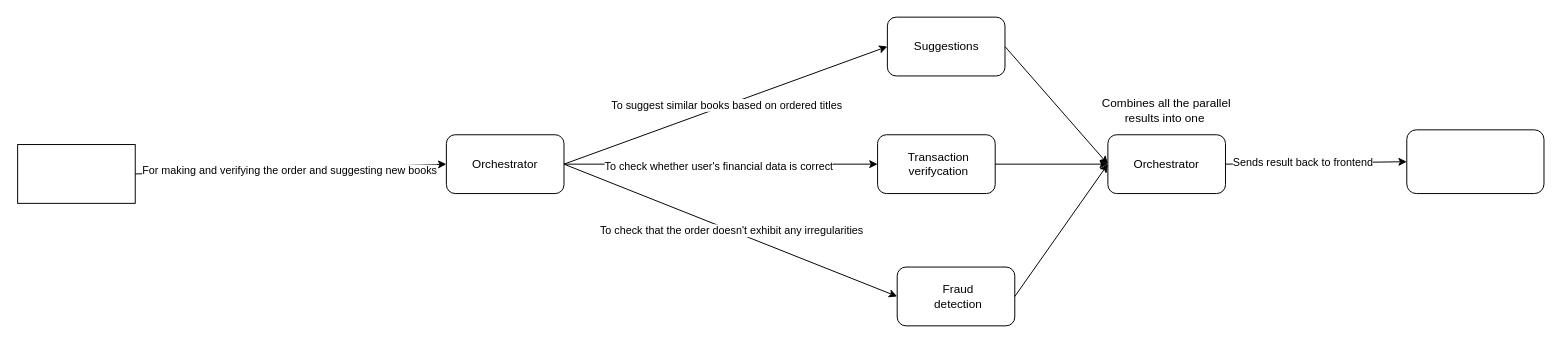
The diagram is 1561 pixels wide and 343 high, and some of its shapes have lost their labels. Each missing label, with the centre of its shape:
"Frontend, suggestions and verification message shown to user" goes at point 1475,161.
"Frontend, user checkout recieved" goes at point 76,173.
